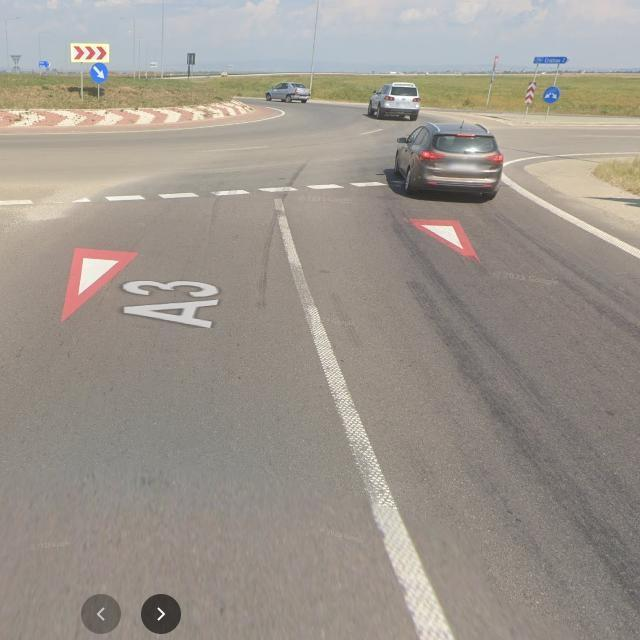prio_give_way: (60, 244, 137, 326), (401, 212, 496, 276)
